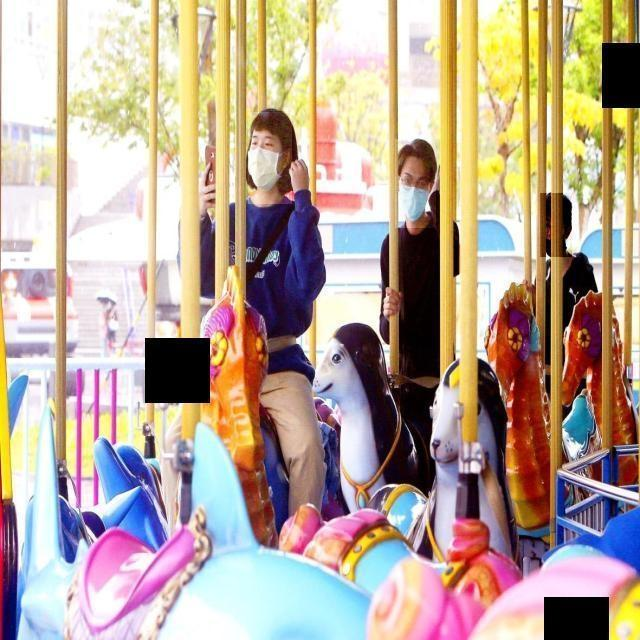hairnet: (541, 193, 573, 257)
mask: (248, 112, 293, 204), (395, 139, 436, 228)
